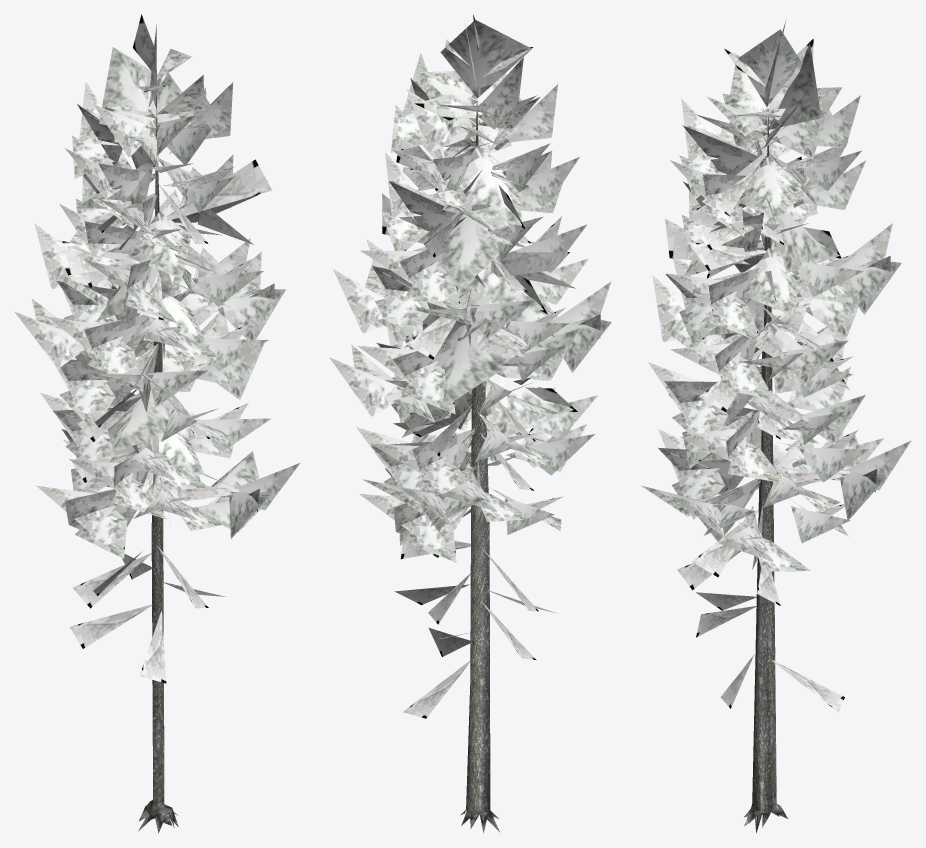
Rendered from arctic-fir-a-map.glb.
The picture shows the model from 3 angles, left to right: view 1: azimuth 30°, elevation 25°; view 2: azimuth 150°, elevation 25°; view 3: azimuth 270°, elevation 25°; orthographic projection. The views are drawn at different scales.
Parts seen in each view (by area): view 1: douglas_fir_a_LOD0; view 2: douglas_fir_a_LOD0; view 3: douglas_fir_a_LOD0.
Part boxes in pixels (x1,y1,x2,y2): douglas_fir_a_LOD0: (14, 14, 300, 833); douglas_fir_a_LOD0: (329, 15, 611, 833); douglas_fir_a_LOD0: (641, 21, 911, 832).
Size of the model in its own units: 12.76 by 41.54 by 12.58.
Materials: 1 (1 with a texture image).
